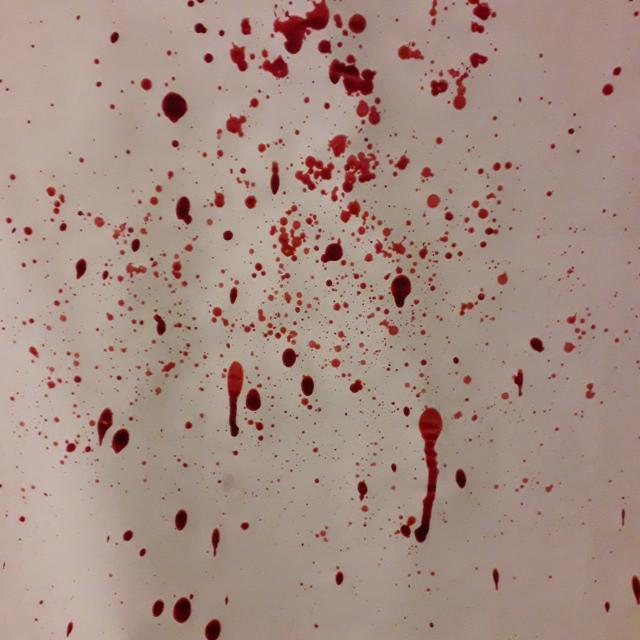wound: (0, 0, 553, 549), (274, 86, 472, 338), (343, 367, 495, 555), (180, 313, 330, 456), (123, 43, 221, 177), (123, 580, 244, 640)
